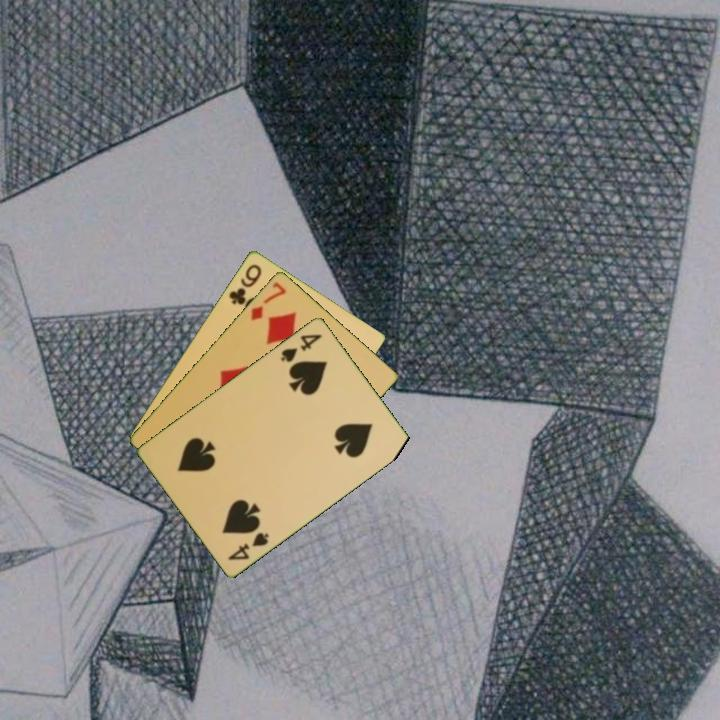4s: (277, 330, 325, 365), (225, 528, 272, 563)
7d: (247, 278, 289, 323)
9c: (225, 260, 265, 307)
